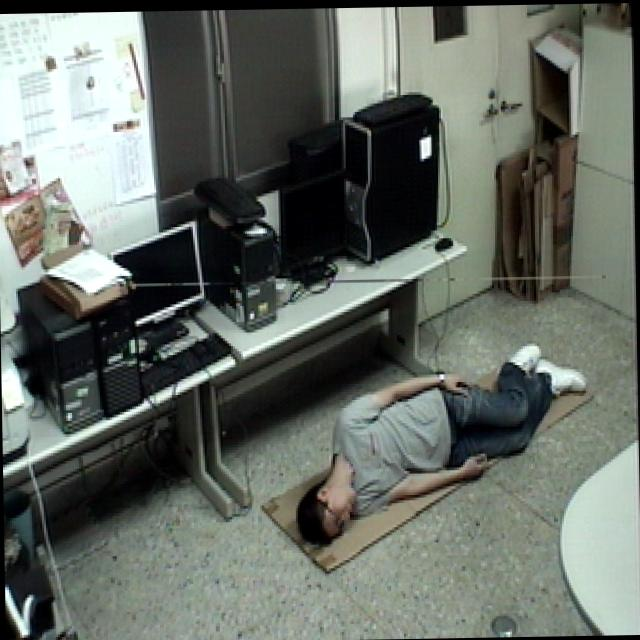lie: (288, 338, 596, 556)
